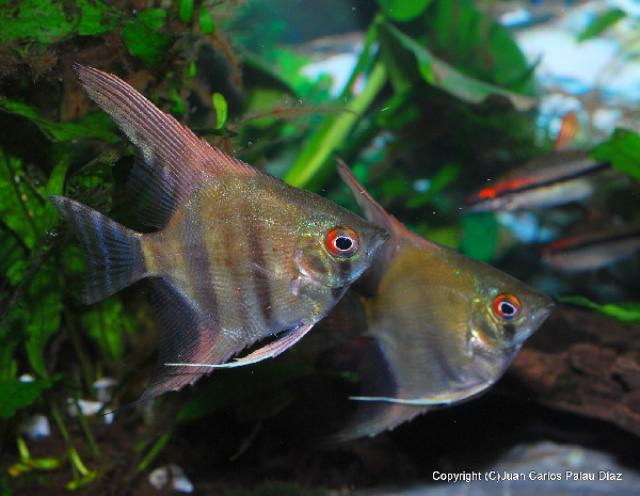Mulut: (355, 206, 403, 276), (527, 275, 575, 343)
Sirip Anal: (99, 274, 245, 424), (302, 350, 464, 472)
Sirip Dada: (228, 252, 308, 326)
Sirip Ekor: (43, 187, 151, 324)
Sirip Perut: (153, 308, 330, 380), (340, 377, 494, 417)
Sirip Punggung: (64, 51, 244, 233), (323, 134, 451, 268)
